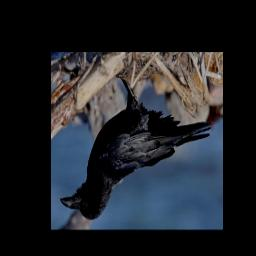Crow: (59, 72, 214, 220)
